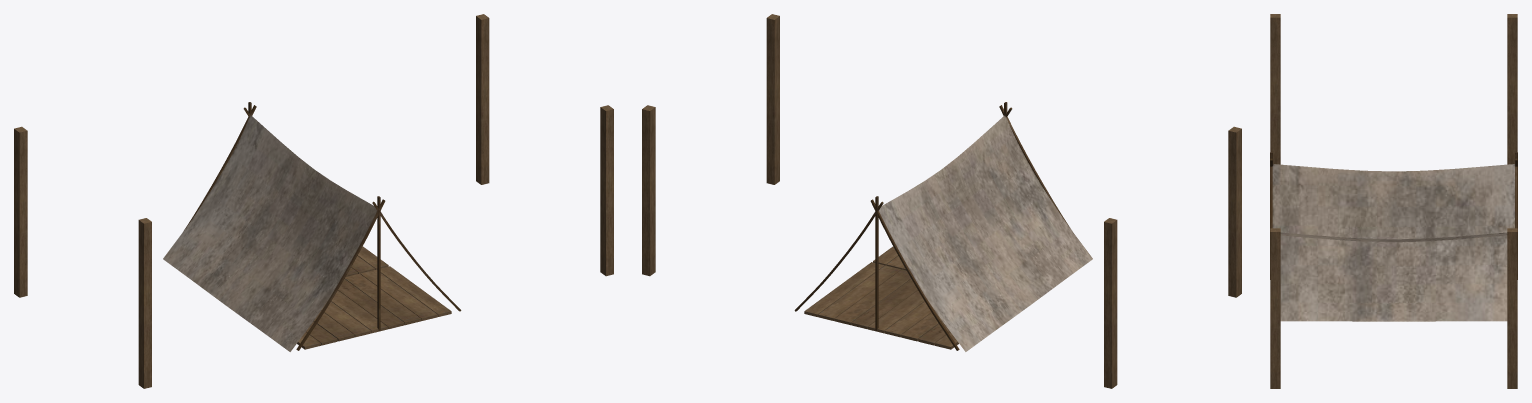
Rendered from SM_tent_06.glb.
3 renders of one model, left to right at view 1: azimuth 30°, elevation 25°; view 2: azimuth 150°, elevation 25°; view 3: azimuth 270°, elevation 25°, orthographic. The views are drawn at different scales.
Parts seen in each view (by area): view 1: SM_tent_06; view 2: SM_tent_06; view 3: SM_tent_06.
Part boxes in pixels (x1,y1,x2,y2): SM_tent_06: [14, 14, 613, 388]; SM_tent_06: [642, 14, 1241, 388]; SM_tent_06: [1270, 14, 1517, 388].
Size of the model in its own units: 7.41 by 2.5 by 3.56.
Materials: 2 (2 with a texture image).
